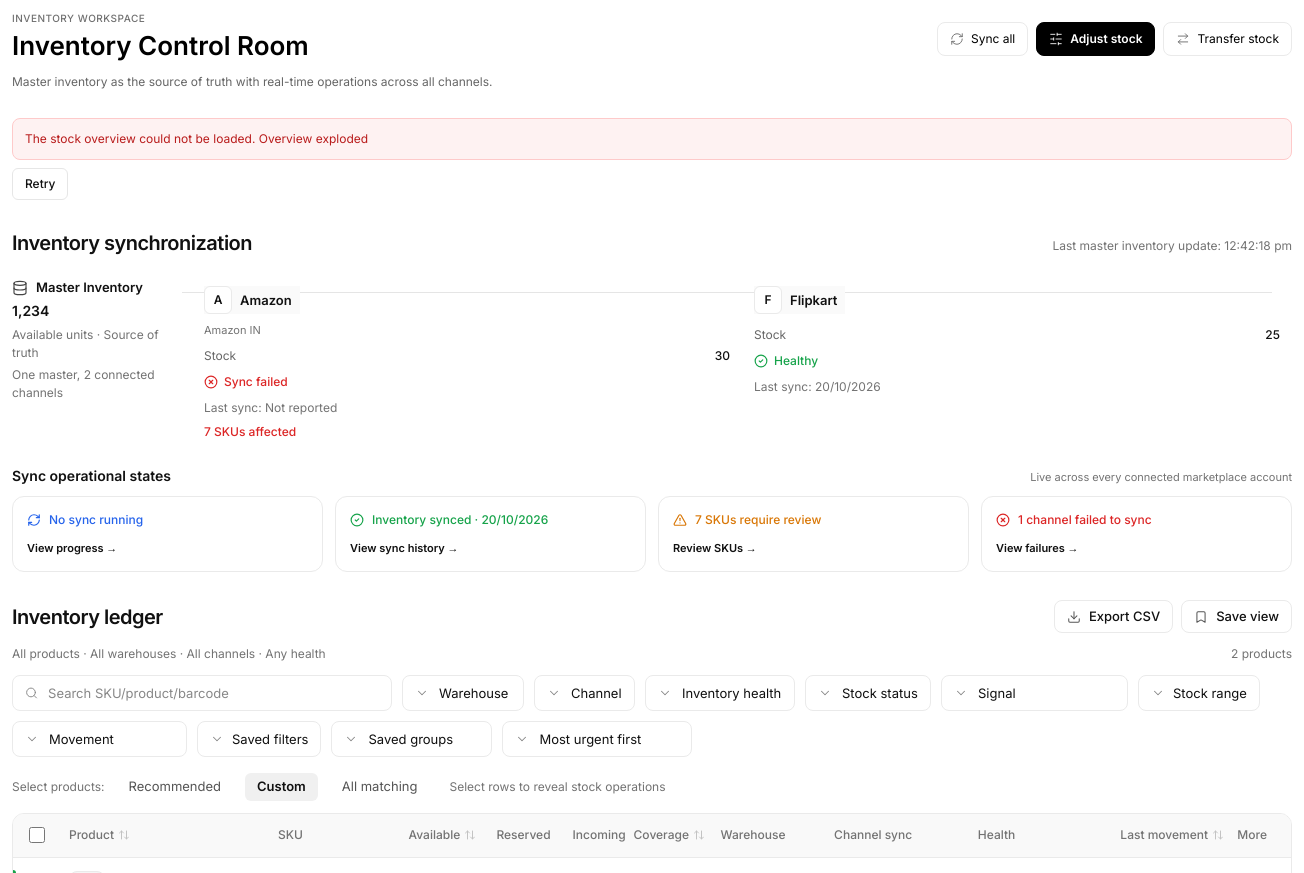
Test: InventoryPage design sections, all from the server › shows an error with retry when the overview cannot be loaded
Expected: the text "The stock overview could not be loaded. Overview exploded" is shown, left=12, top=118, right=1292, bottom=160
Click the button "Retry" at (40, 184), box left=12, top=168, right=68, bottom=200
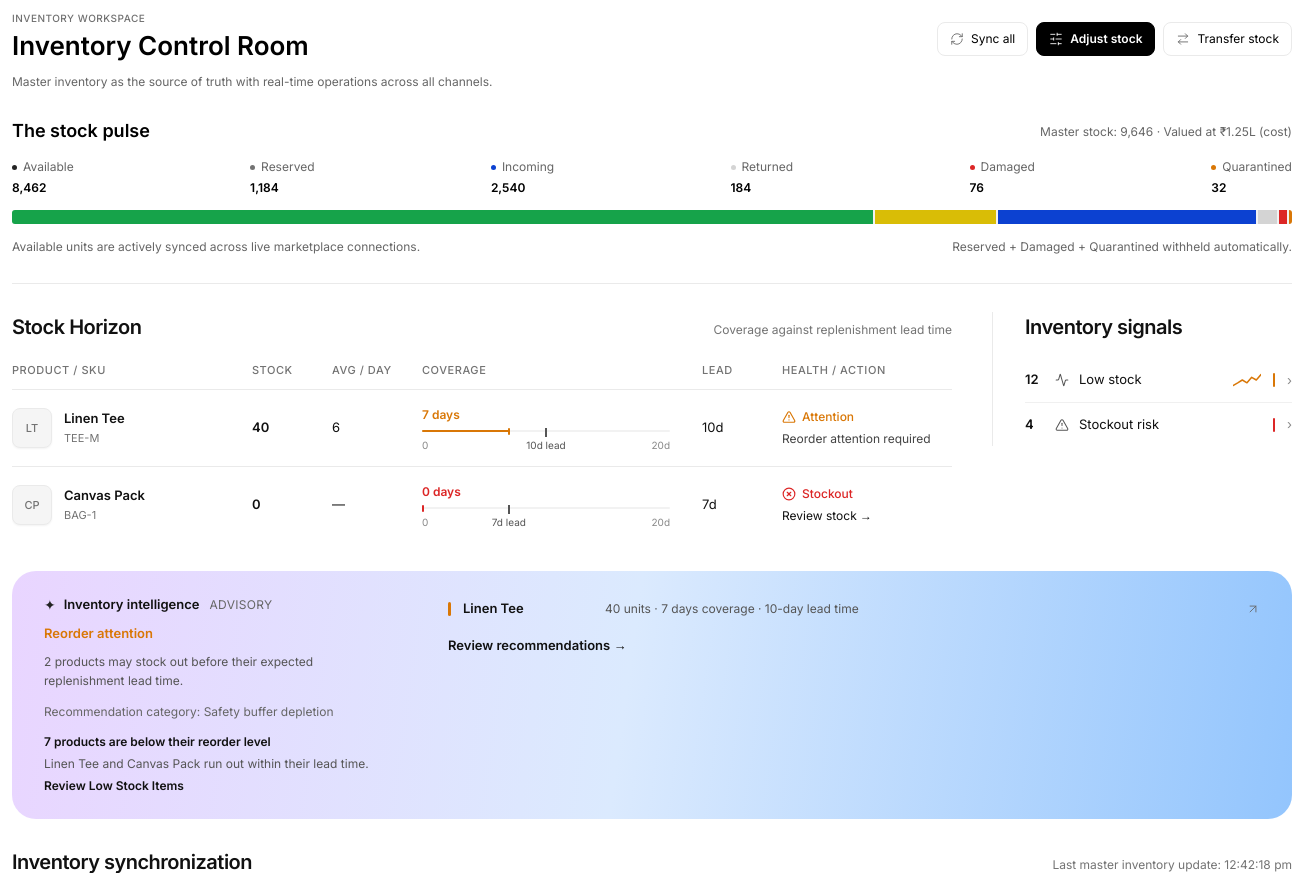
Now the text "Master stock: 9,646 · Valued at ₹1.25L (cost)" is shown, box left=1040, top=123, right=1292, bottom=140
